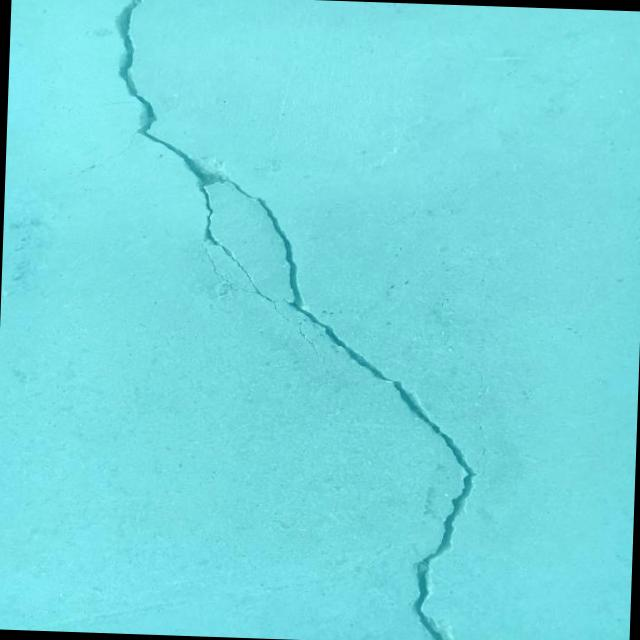crack: (92, 0, 493, 640)
